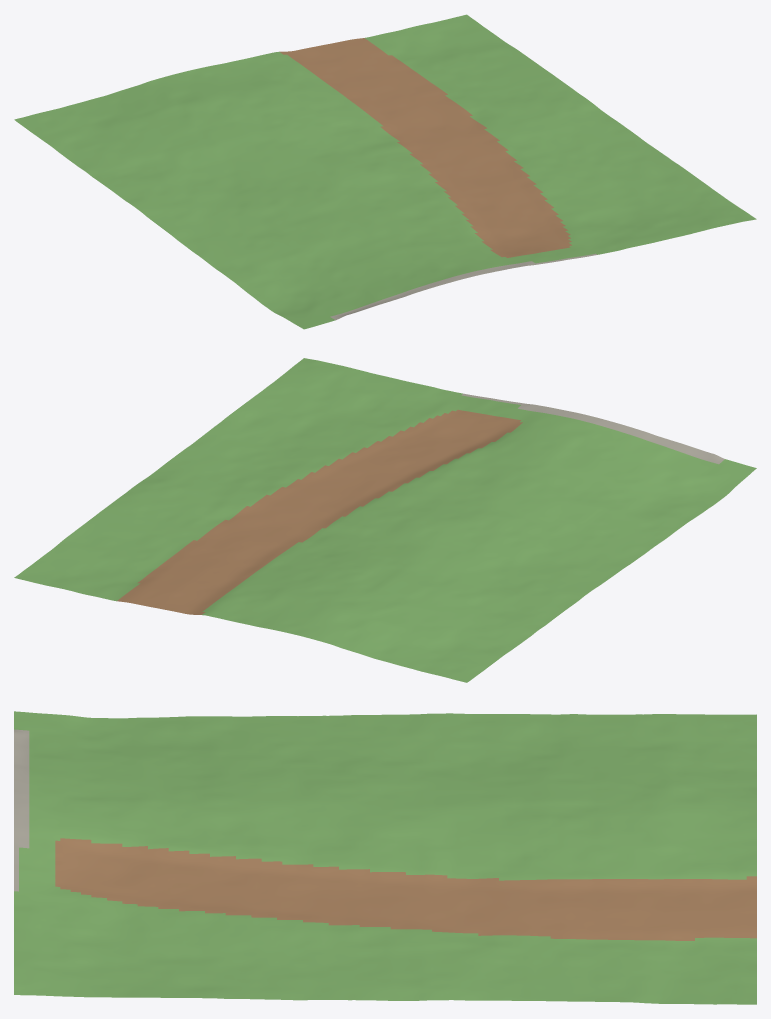
Rendered from cedar_hollow_heightmesh_0_neg1.glb.
3 renders of one model, top to bottom at view 1: azimuth 30°, elevation 25°; view 2: azimuth 150°, elevation 25°; view 3: azimuth 270°, elevation 25°, orthographic. The views are drawn at different scales.
Parts seen in each view (by area): view 1: cedar_hollow_heightmesh_0_neg1; view 2: cedar_hollow_heightmesh_0_neg1; view 3: cedar_hollow_heightmesh_0_neg1.
Part boxes in pixels (left/top/right/bottom): cedar_hollow_heightmesh_0_neg1: left=14, top=14, right=756, bottom=329; cedar_hollow_heightmesh_0_neg1: left=14, top=358, right=756, bottom=682; cedar_hollow_heightmesh_0_neg1: left=14, top=711, right=756, bottom=1004.
Bounding box in the file's own units: 11 × 0.464 × 12.2.
